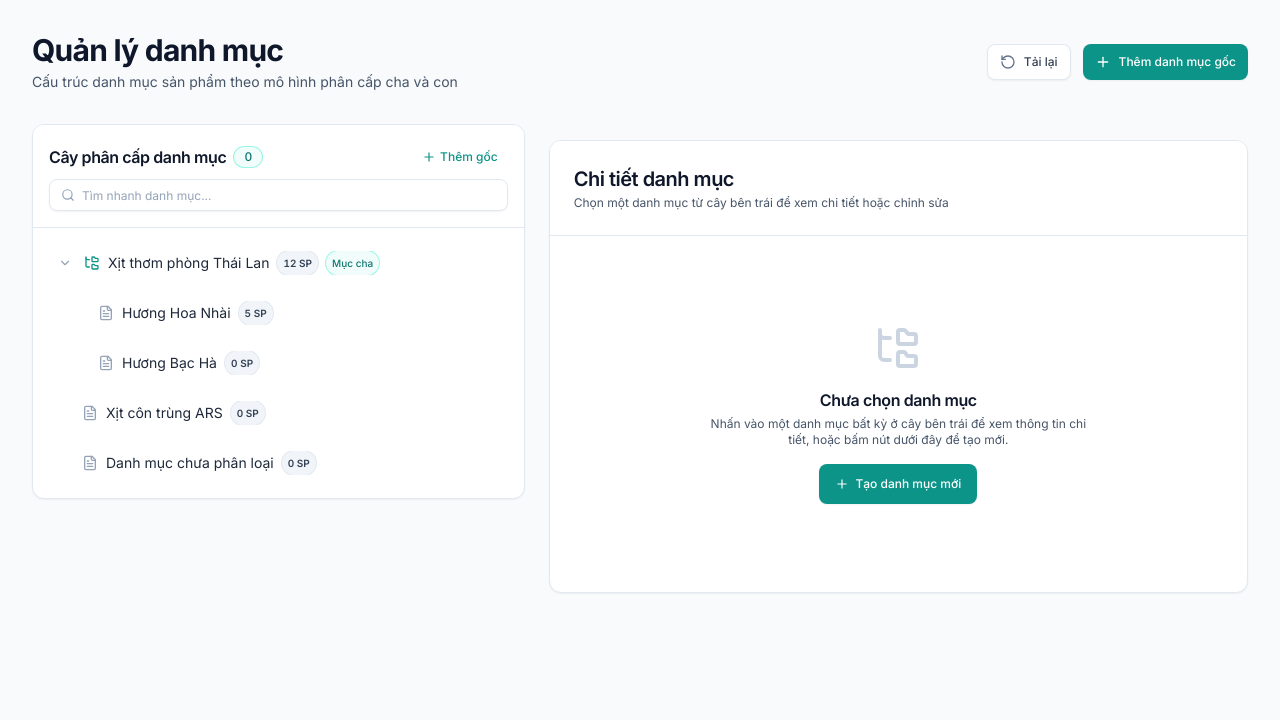
it: AdminCategoriesPage › expands and collapses child categories when chevron toggle is clicked
This screenshot has width=1280, height=720.
expect the text "Hương Hoa Nhài" is shown: met, box [122,303,231,323]
Click to collapse
Click the 4th button.
click(65, 263)  # box [54,252,76,274]
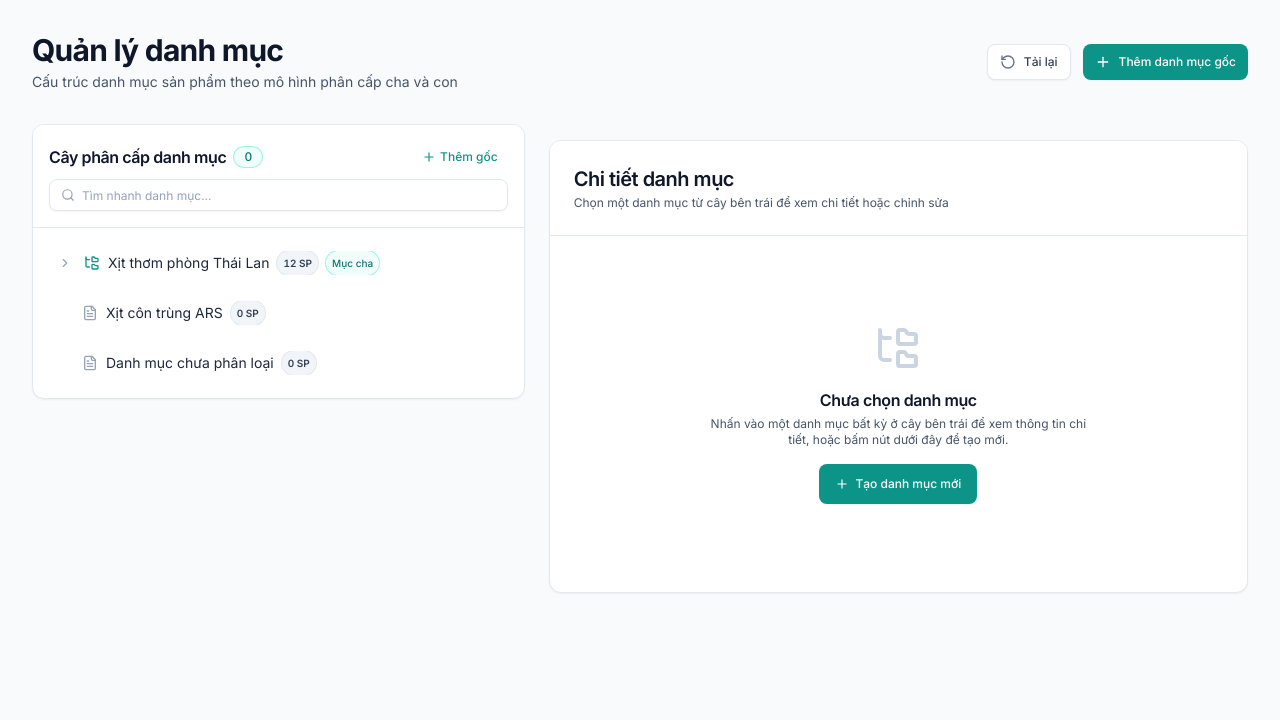
expect the button "Hương Hoa Nhài" is gone: met
expect the button "Hương Bạc Hà" is gone: met
Click again to expand
Click the 4th button.
click(65, 263)  # box [54,252,76,274]
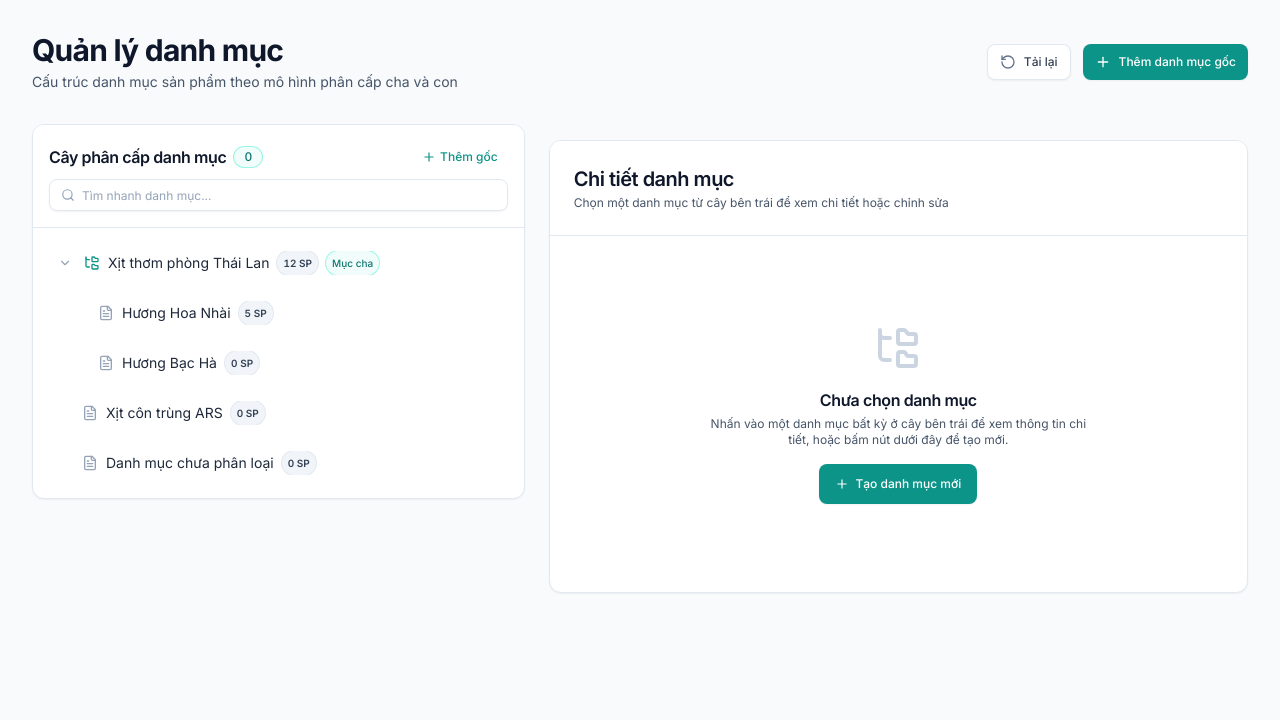
expect the text "Hương Hoa Nhài" is shown: met, box [122,303,231,323]
expect the text "Hương Bạc Hà" is shown: met, box [122,353,217,373]
